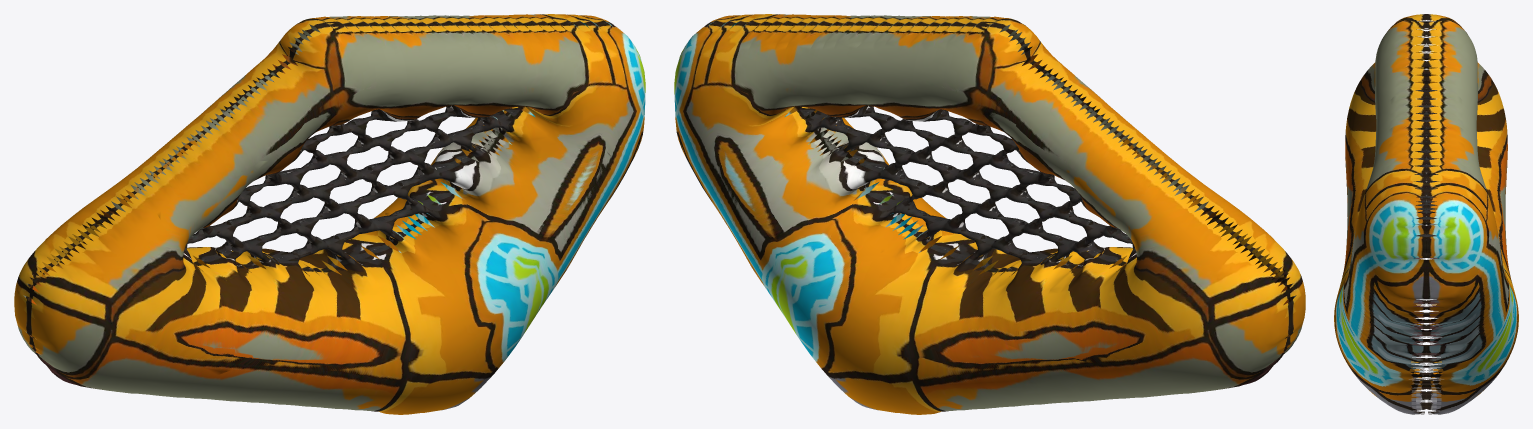
The model's file is grated_balcony.glb.
3 views of the same model, side by side, from view 1: azimuth 30°, elevation 25°; view 2: azimuth 150°, elevation 25°; view 3: azimuth 270°, elevation 25° (orthographic). The views are drawn at different scales.
Visible parts, largest first — view 1: grated_balcony; view 2: grated_balcony; view 3: grated_balcony.
Part boxes in pixels (x1,y1,x2,y2): grated_balcony: (14,14,645,414); grated_balcony: (674,14,1305,414); grated_balcony: (1334,14,1518,414).
Size of the model in its own units: 0.9889 by 0.6306 by 0.3039.
Materials: 1 (1 with a texture image).
